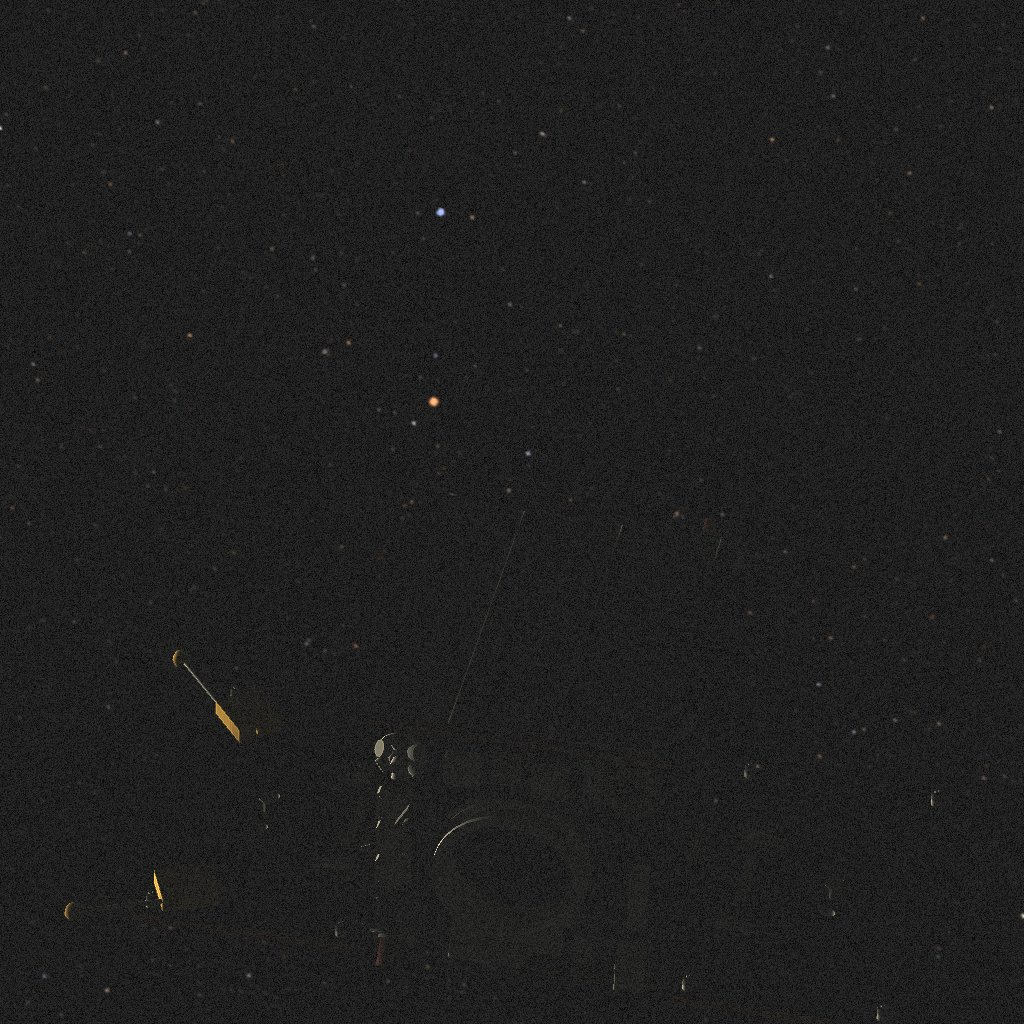proba_2: (65, 486, 957, 1024)
